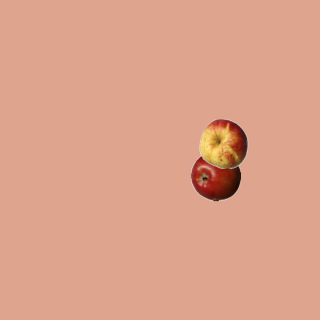Apple Braeburn: (190, 151, 240, 201)
Apple Red Yellow 1: (198, 118, 248, 168)
